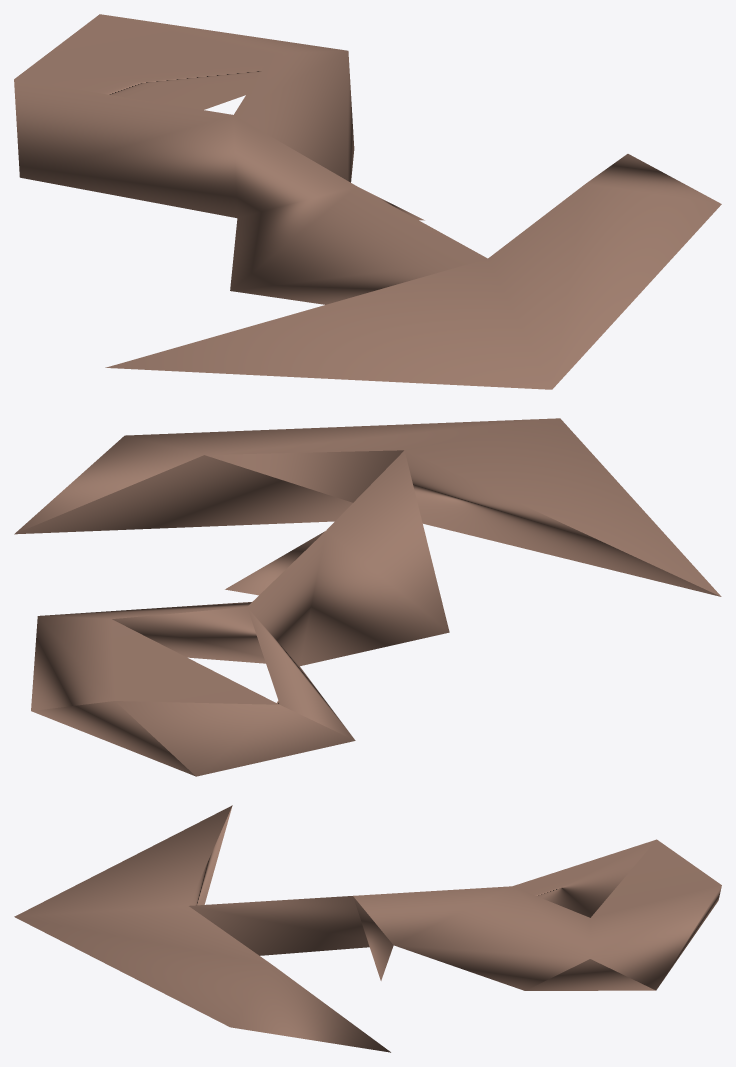
The model's file is Prop_Anchor.low.gltf.
3 views of the same model, one above another, from view 1: azimuth 30°, elevation 25°; view 2: azimuth 150°, elevation 25°; view 3: azimuth 270°, elevation 25° (orthographic). The views are drawn at different scales.
Visible parts, largest first — view 1: Prop_Anchor; view 2: Prop_Anchor; view 3: Prop_Anchor.
Boxes of the visible parts, bbox=[...] form: Prop_Anchor: bbox=[14, 14, 721, 389]; Prop_Anchor: bbox=[14, 418, 721, 776]; Prop_Anchor: bbox=[14, 805, 721, 1052].
Bounding box in the file's own units: 0.7375 × 0.0886 × 0.9296.
Materials: 1 (1 with a texture image).
